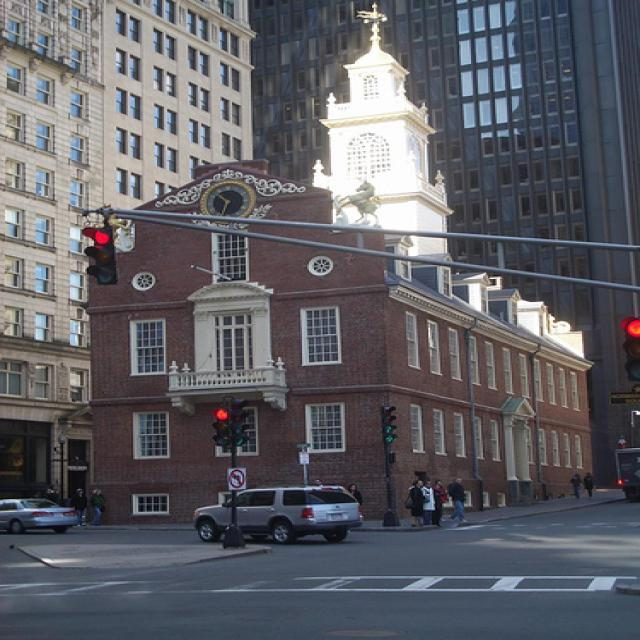Vehicle: (192, 487, 362, 544), (3, 497, 82, 535), (613, 438, 640, 502)
